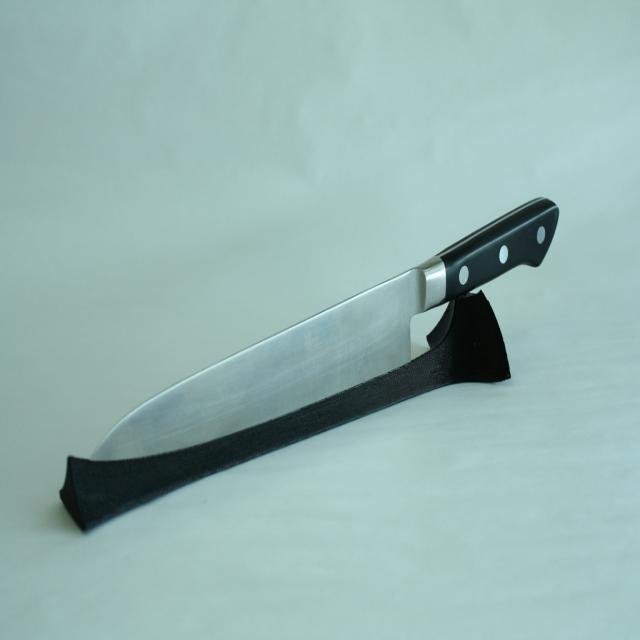Knife: (92, 199, 559, 460)
